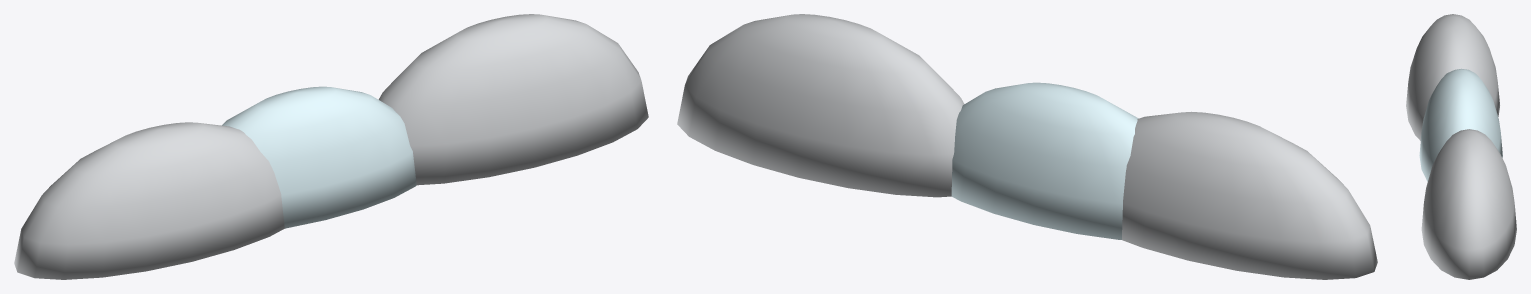
The model's file is Winter_Hills1.fbx.
3 renders of one model, left to right at view 1: azimuth 30°, elevation 25°; view 2: azimuth 150°, elevation 25°; view 3: azimuth 270°, elevation 25°, orthographic. The views are drawn at different scales.
Parts seen in each view (by area): view 1: Winter_Hills1; view 2: Winter_Hills1; view 3: Winter_Hills1.
Part boxes in pixels (x1,y1,x2,y2): Winter_Hills1: (14, 14, 648, 279); Winter_Hills1: (677, 14, 1377, 279); Winter_Hills1: (1406, 14, 1516, 279).
Bounding box in the file's own units: 19.64 × 3.58 × 4.11.
